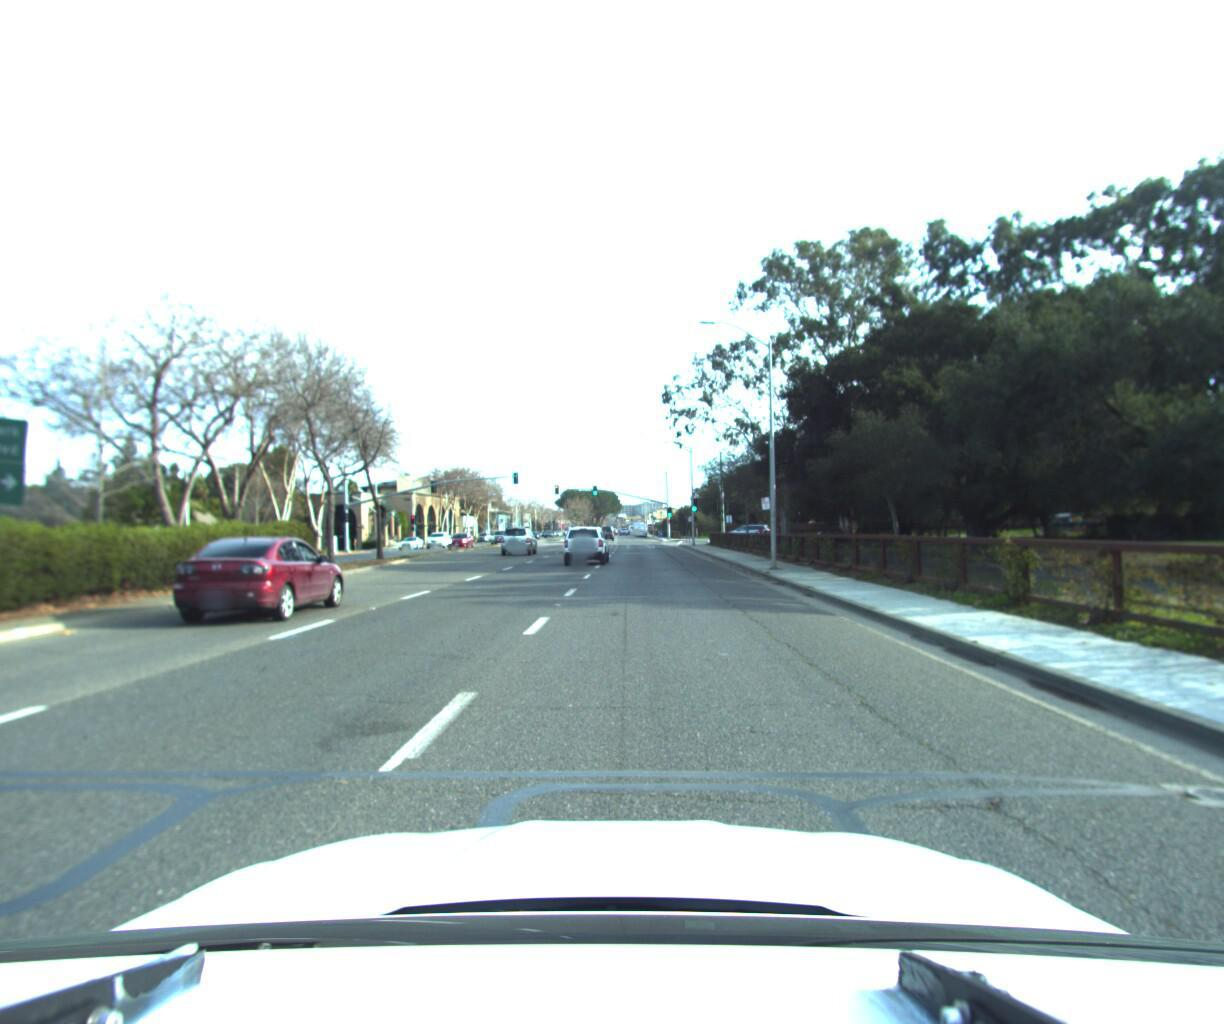car: (166, 532, 353, 631), (557, 521, 609, 565), (498, 523, 539, 555), (444, 529, 476, 549), (425, 529, 454, 548)
